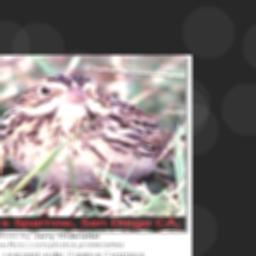Sparrow: (0, 73, 172, 212)
